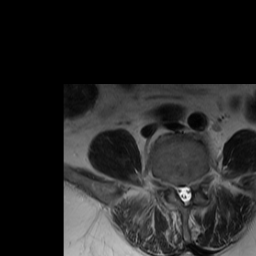CCS_normal: (181, 177, 187, 206)
LFS_normal: (194, 174, 200, 193)
LLS_stenosis: (187, 179, 193, 203)
RFS_stenosis: (168, 176, 174, 195)
RLS_stenosis: (175, 177, 182, 201)
